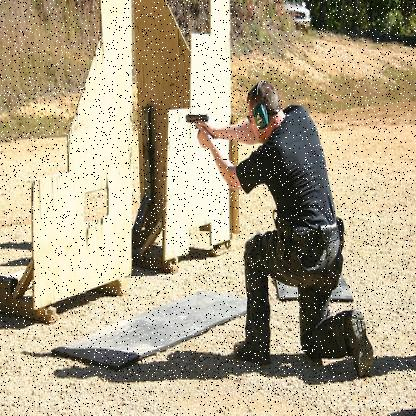pistol: (184, 112, 209, 134)
